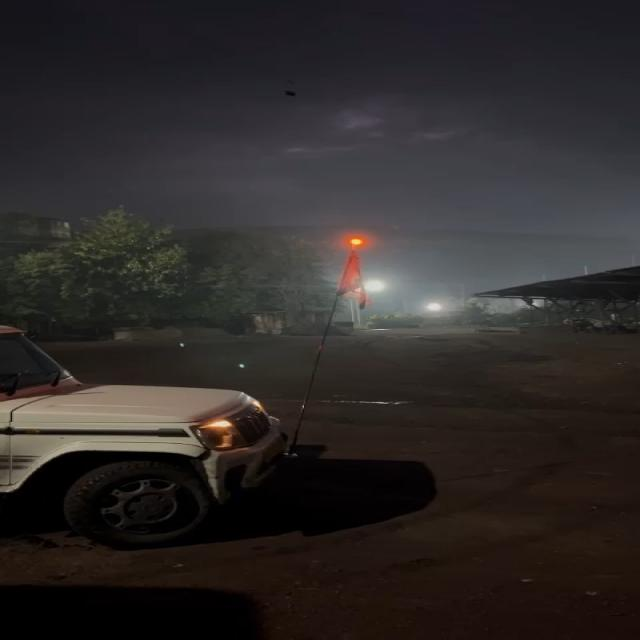light_vehicle: (0, 327, 267, 539)
